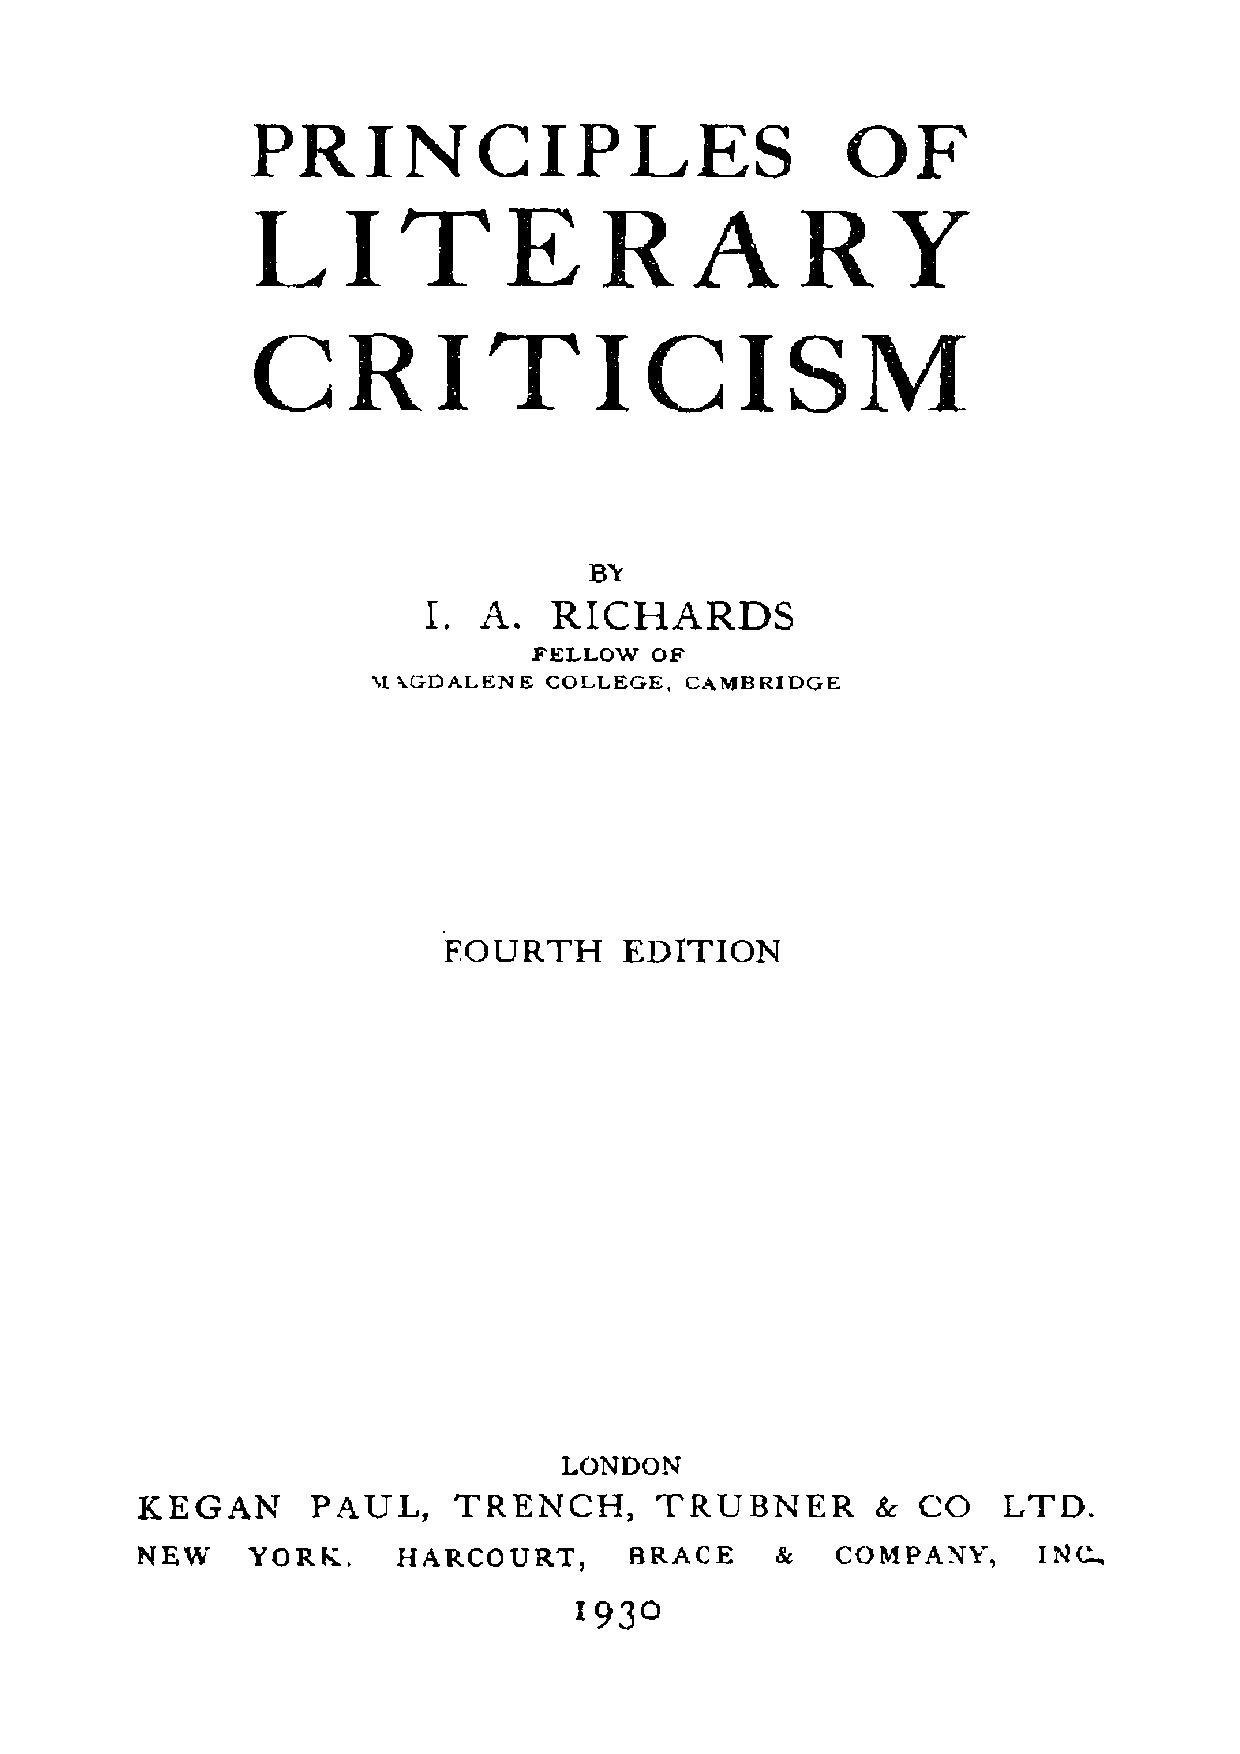author: (423, 561, 794, 632)
title: (252, 119, 970, 413)
